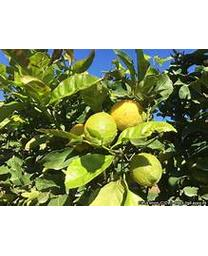lemon: (111, 98, 147, 132), (128, 154, 163, 186), (85, 110, 116, 142)
